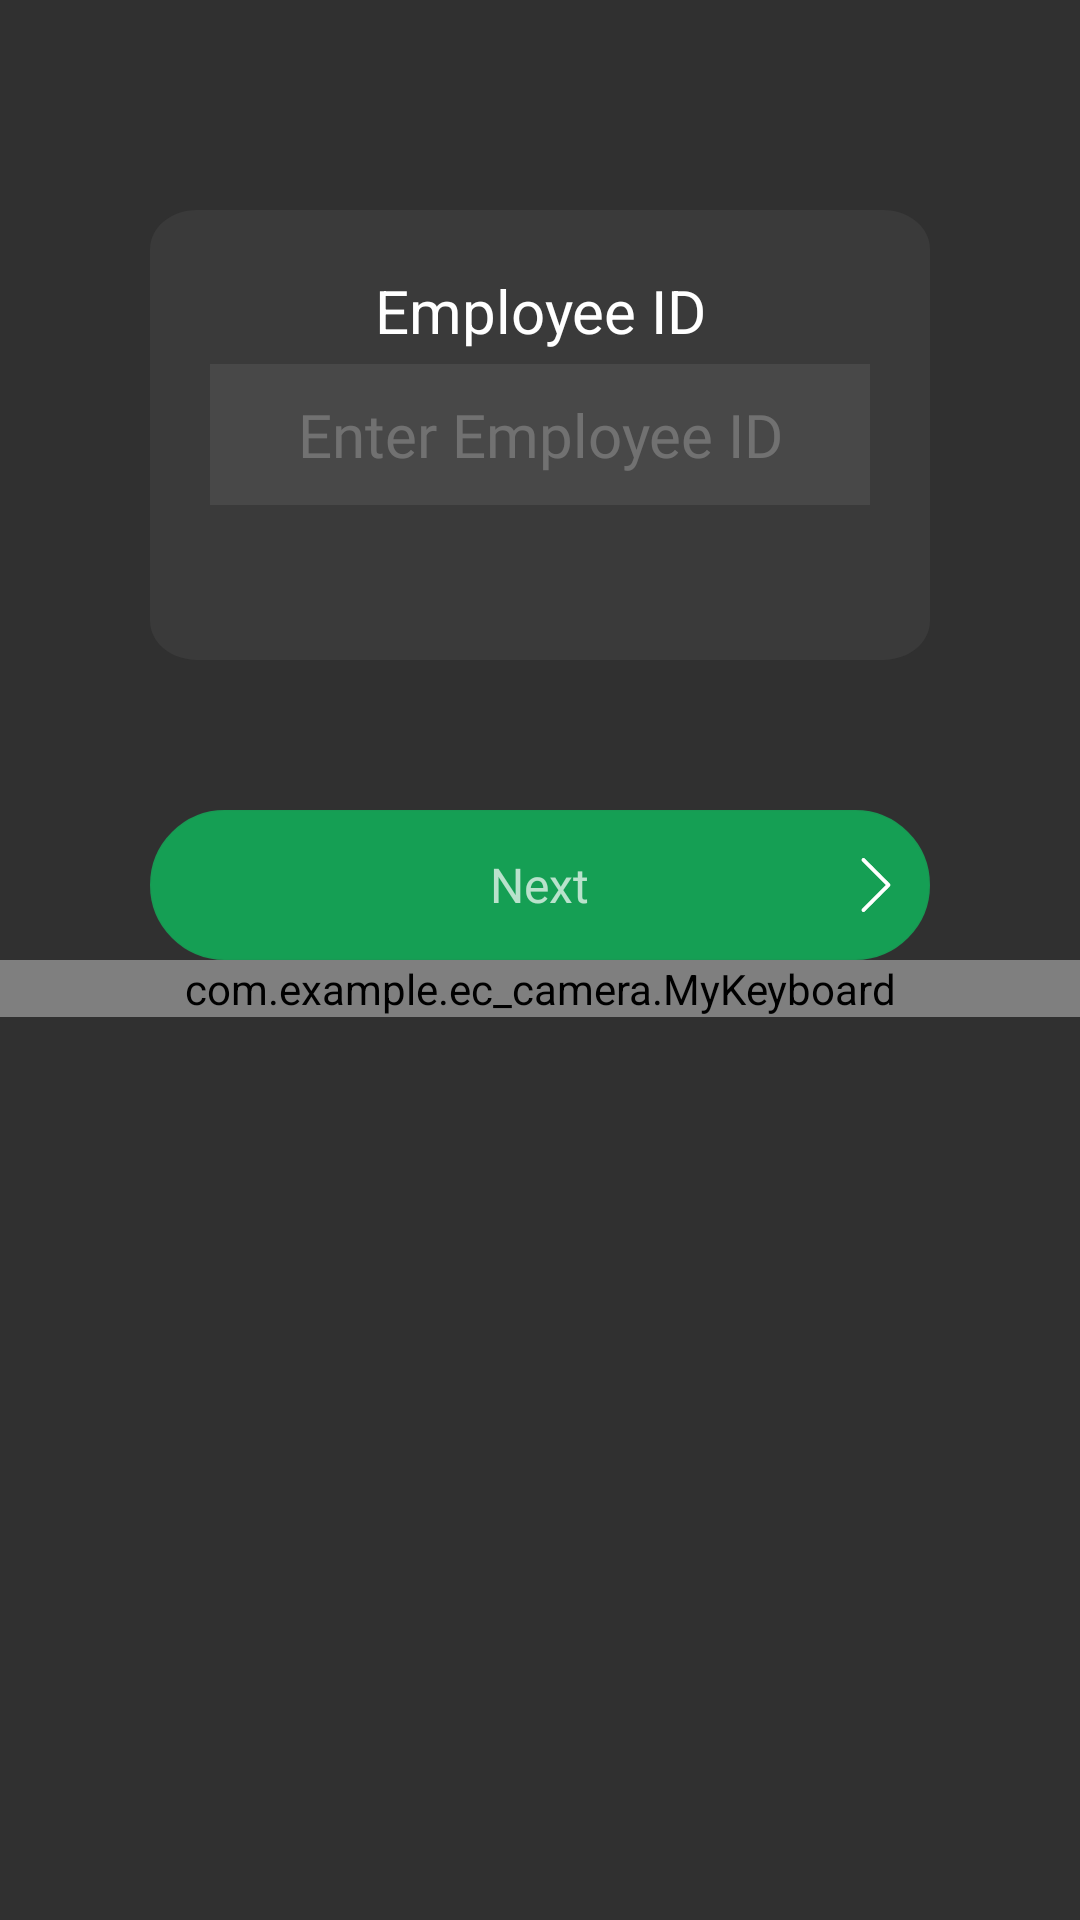

Icon bounding boxes for this 1080x1920 phone screenshot, format (x1, y1, x2, y2):
right arrow: (861, 858, 891, 912)
